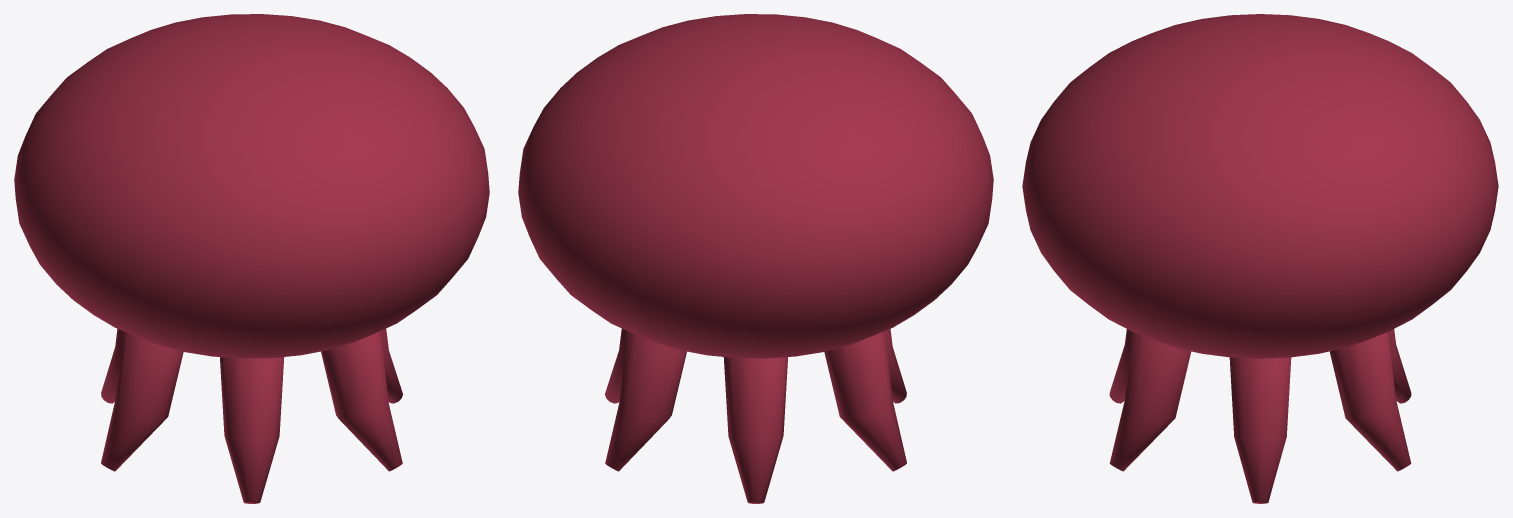
File: big-red-jelly.glb
The picture shows the model from 3 angles, left to right: view 1: azimuth 30°, elevation 25°; view 2: azimuth 150°, elevation 25°; view 3: azimuth 270°, elevation 25°; orthographic projection.
Parts seen in each view (by area): view 1: big-red-jelly; view 2: big-red-jelly; view 3: big-red-jelly.
Boxes of the visible parts, <box> form: big-red-jelly: <box>14,14,489,503</box>; big-red-jelly: <box>518,14,993,503</box>; big-red-jelly: <box>1022,14,1498,503</box>.
Size of the model in its own units: 0.86 by 0.7786 by 0.86.
